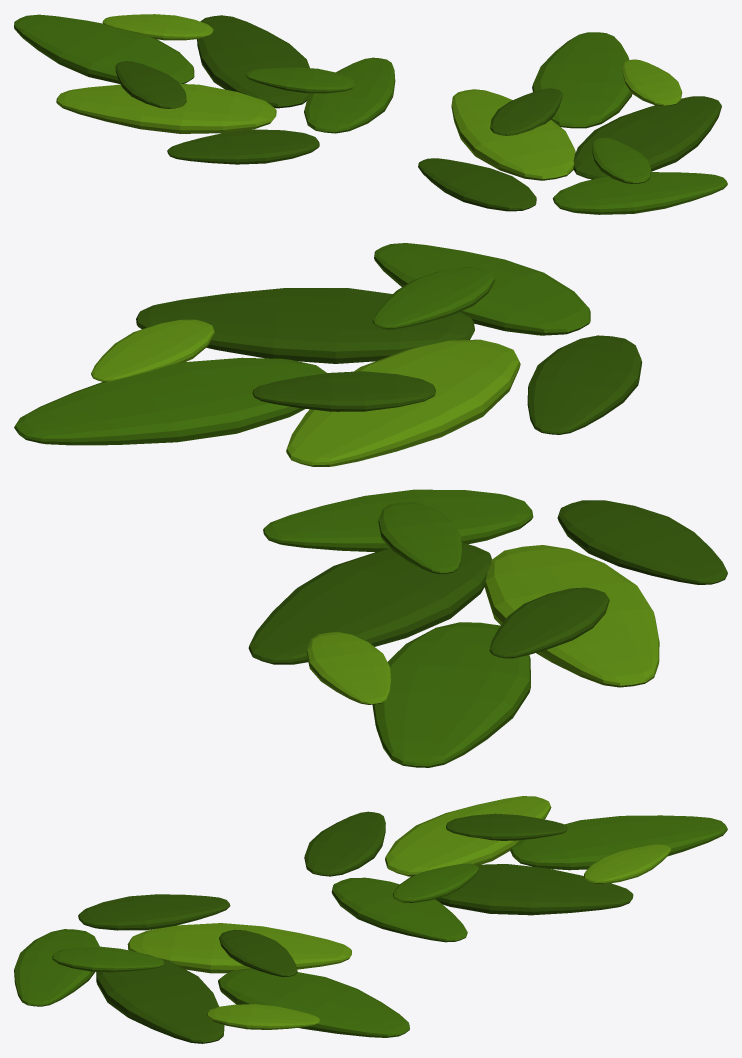
The model's file is Herbs.fbx.
The picture shows the model from 3 angles, top to bottom: view 1: azimuth 30°, elevation 25°; view 2: azimuth 150°, elevation 25°; view 3: azimuth 270°, elevation 25°; orthographic projection. The views are drawn at different scales.
Visible parts, largest first — view 1: Herbs; view 2: Herbs; view 3: Herbs.
Part boxes in pixels (x1,y1,x2,y2): Herbs: [14, 14, 727, 214]; Herbs: [14, 243, 727, 767]; Herbs: [14, 796, 727, 1043].
Size of the model in its own units: 23.96 by 1.08 by 29.47.
